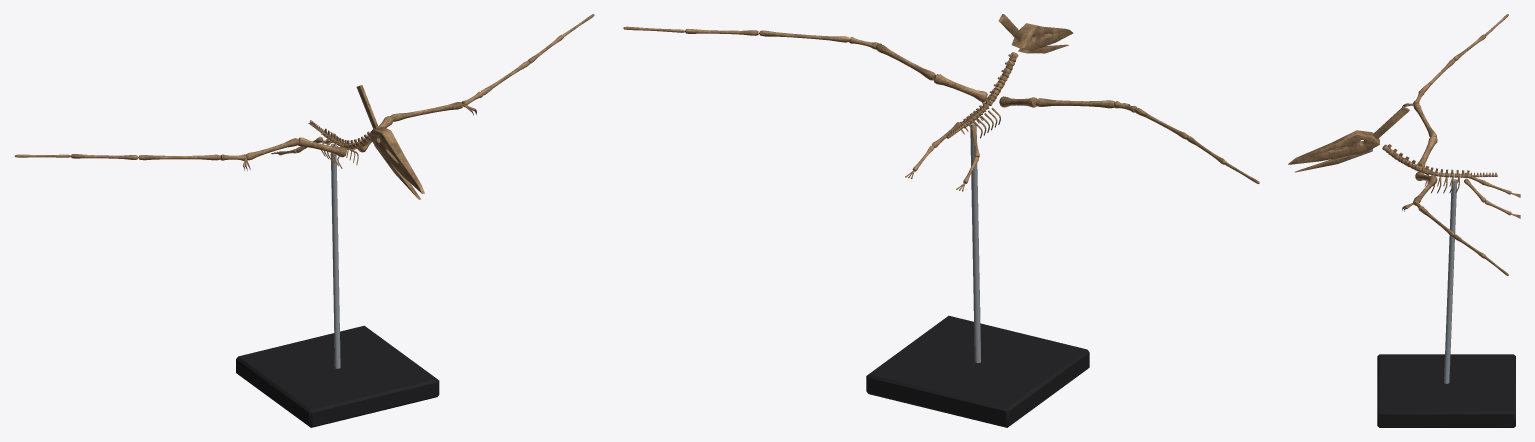
Rendered from pterosaur-skeleton.glb.
3 renders of one model, left to right at view 1: azimuth 30°, elevation 25°; view 2: azimuth 150°, elevation 25°; view 3: azimuth 270°, elevation 25°, orthographic. The views are drawn at different scales.
Visible parts, largest first — view 1: Pterosaur_Skeleton; view 2: Pterosaur_Skeleton; view 3: Pterosaur_Skeleton.
Part boxes in pixels (x1=…): Pterosaur_Skeleton: x1=14, y1=14, x2=594, y2=427; Pterosaur_Skeleton: x1=623, y1=14, x2=1259, y2=427; Pterosaur_Skeleton: x1=1288, y1=14, x2=1520, y2=427.
Size of the model in its own units: 4 by 2.1 by 1.51.
Materials: 4 (1 with a texture image).
